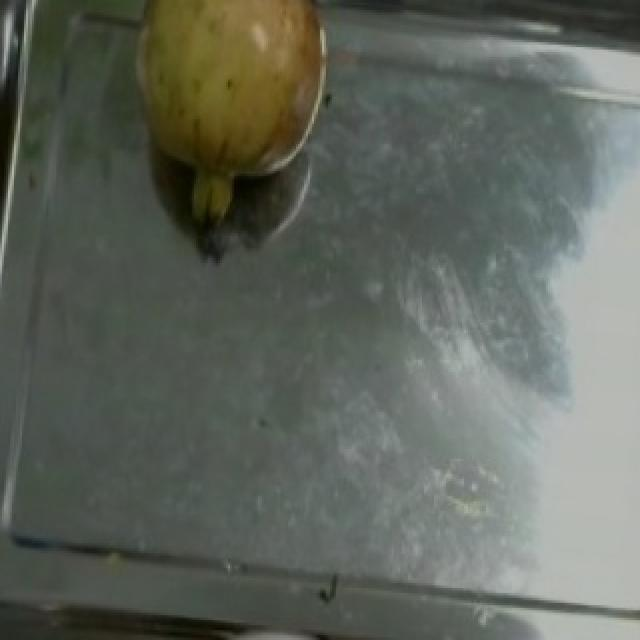fruit: (106, 0, 358, 218)
